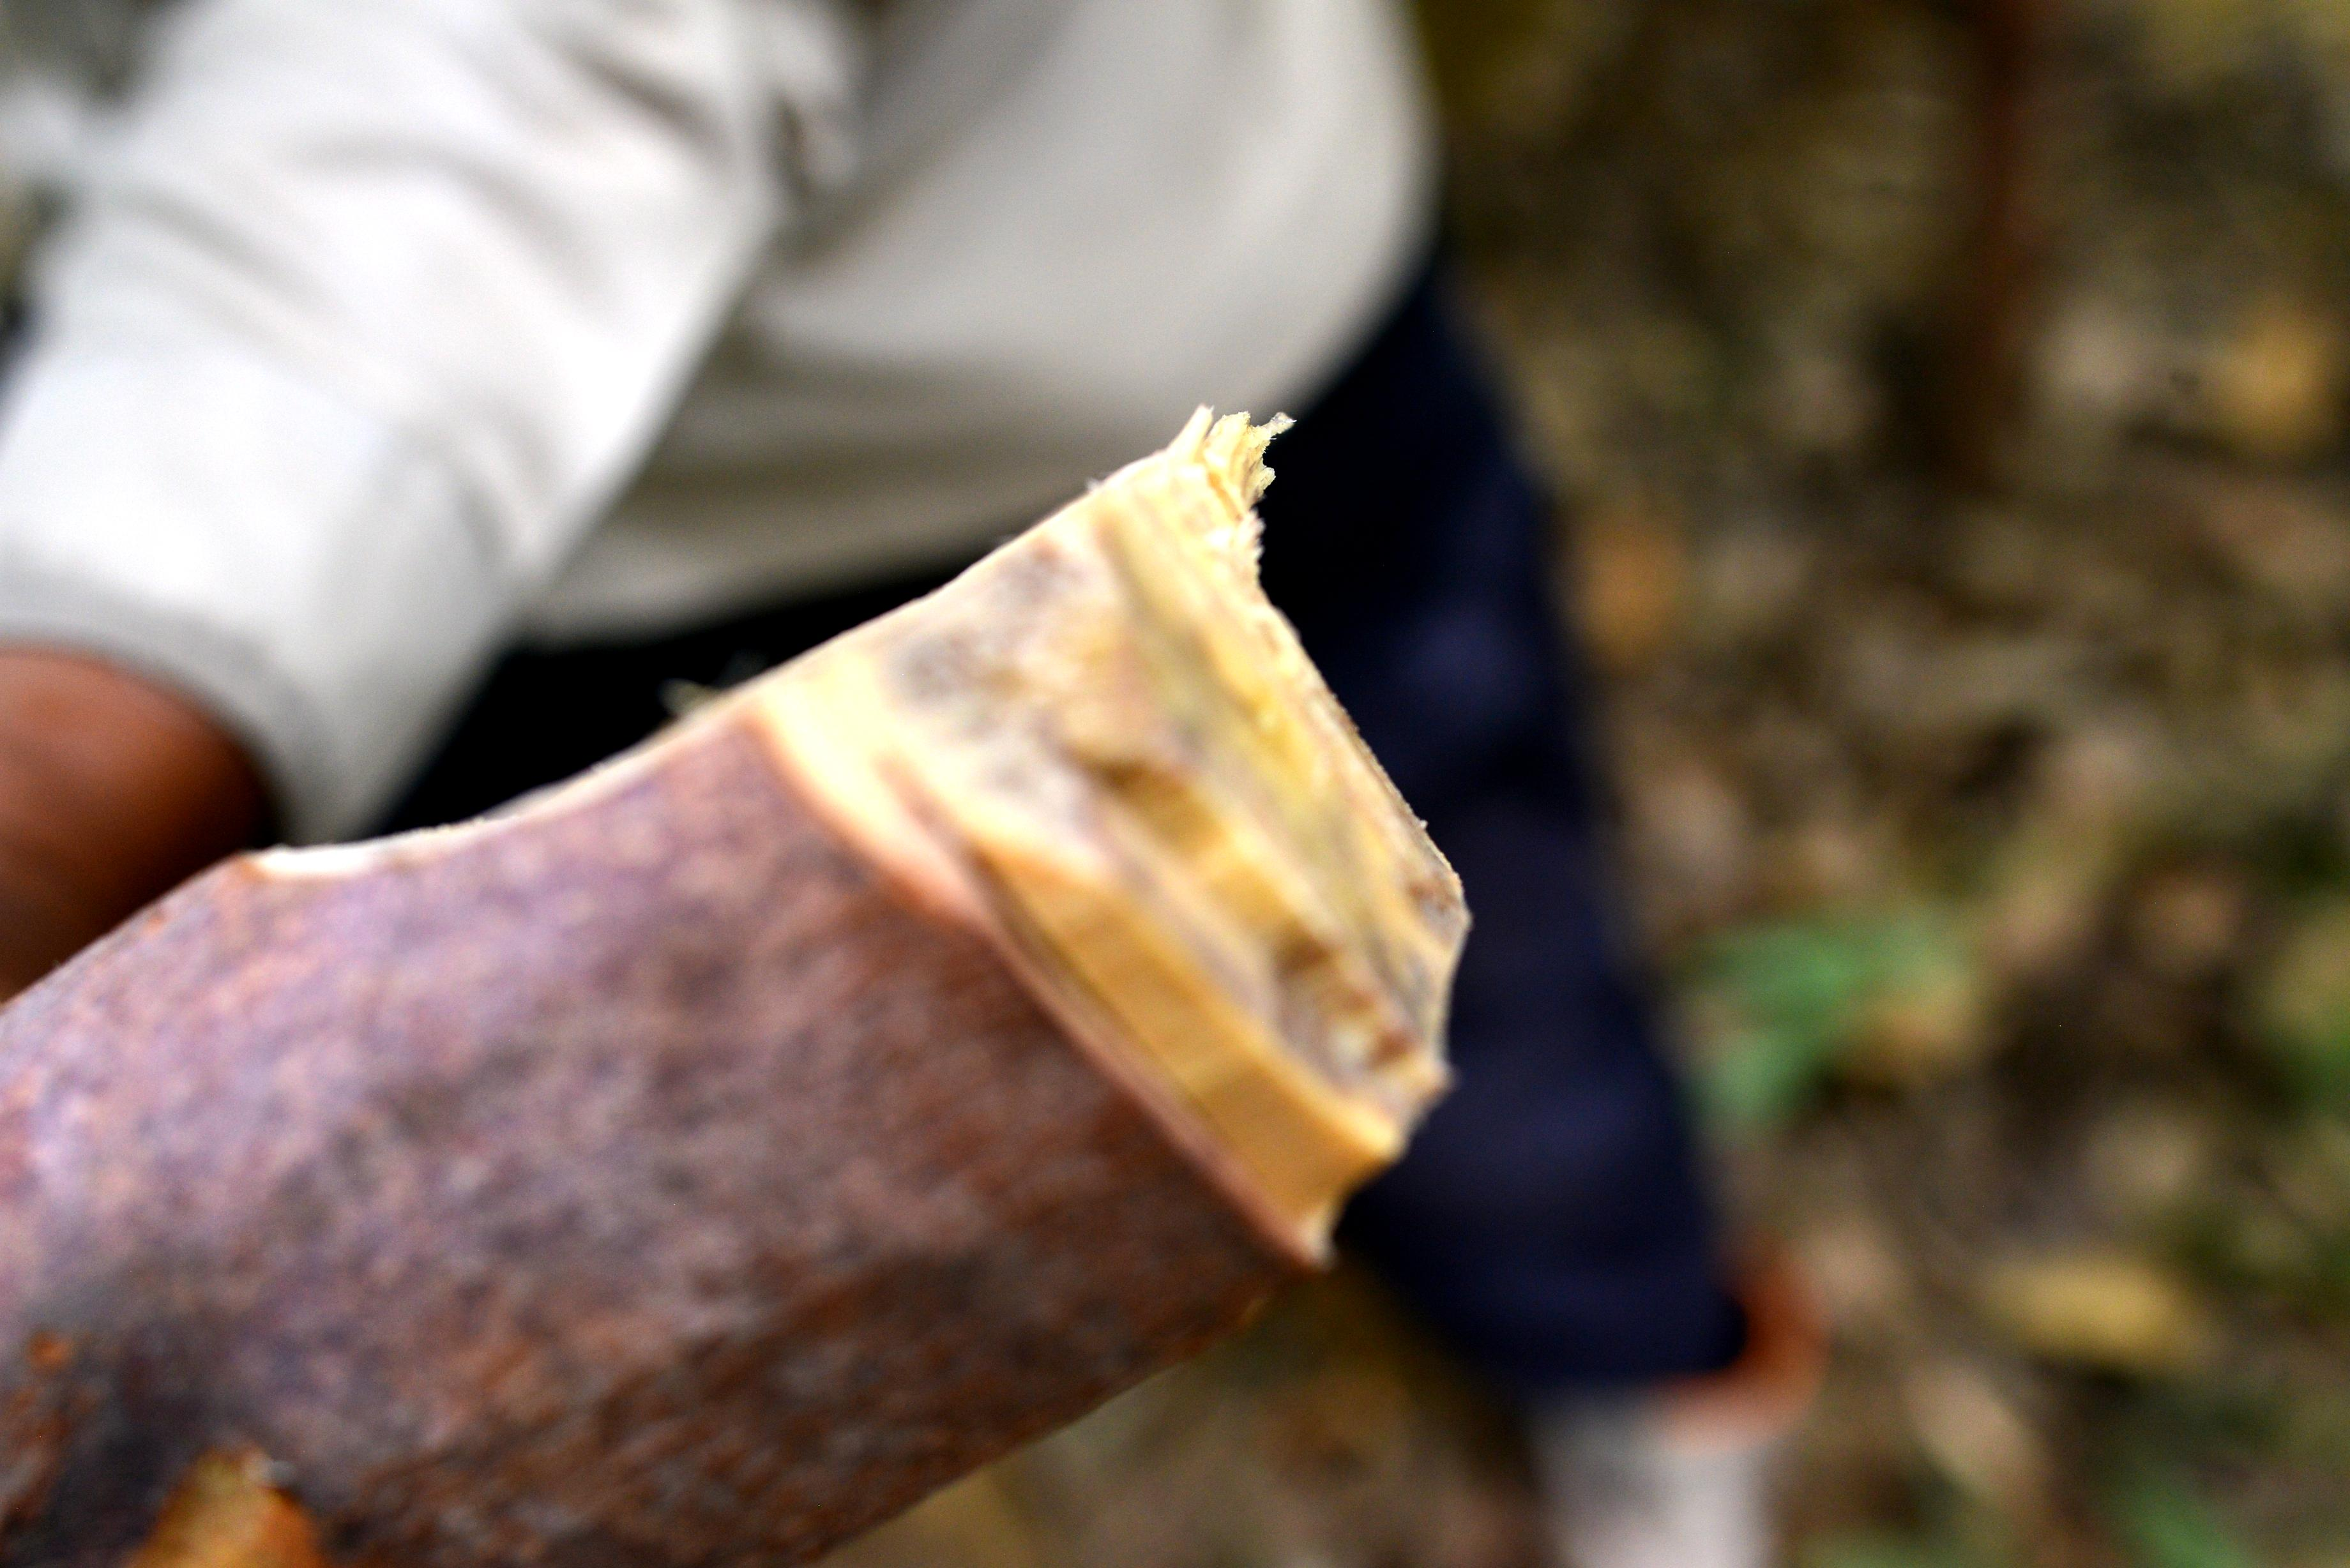Ralstonia: (840, 418, 1512, 1220)
